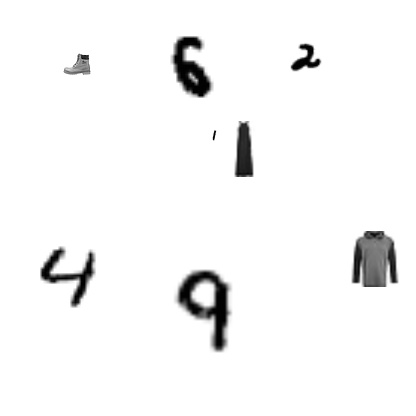1: (207, 128, 221, 142)
2: (285, 38, 327, 80)
4: (26, 232, 110, 316)
6: (147, 25, 231, 109)
9: (151, 247, 263, 359)
Ankle_boot: (63, 50, 91, 78)
Dress: (217, 121, 273, 177)
Pullover: (346, 231, 402, 287)
